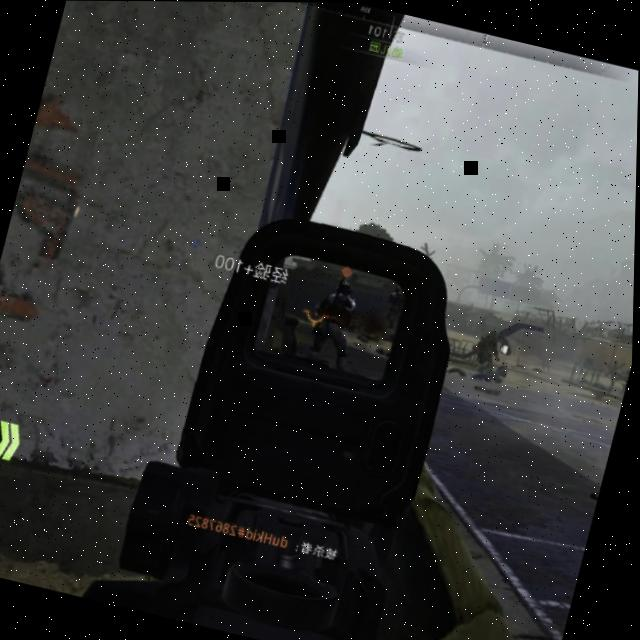MW2_body: (304, 262, 371, 368), (468, 325, 506, 371), (380, 281, 410, 326)
